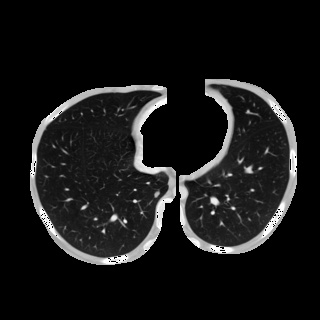PN: (153, 190, 161, 198)
